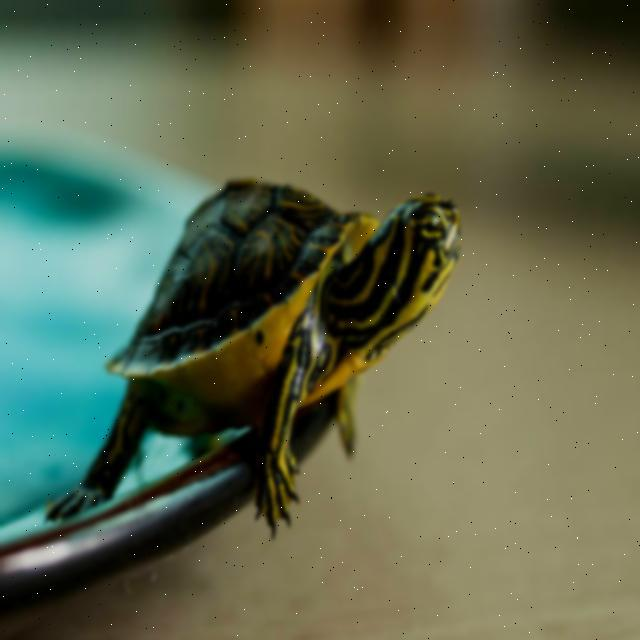tortoise: (29, 173, 467, 561)
